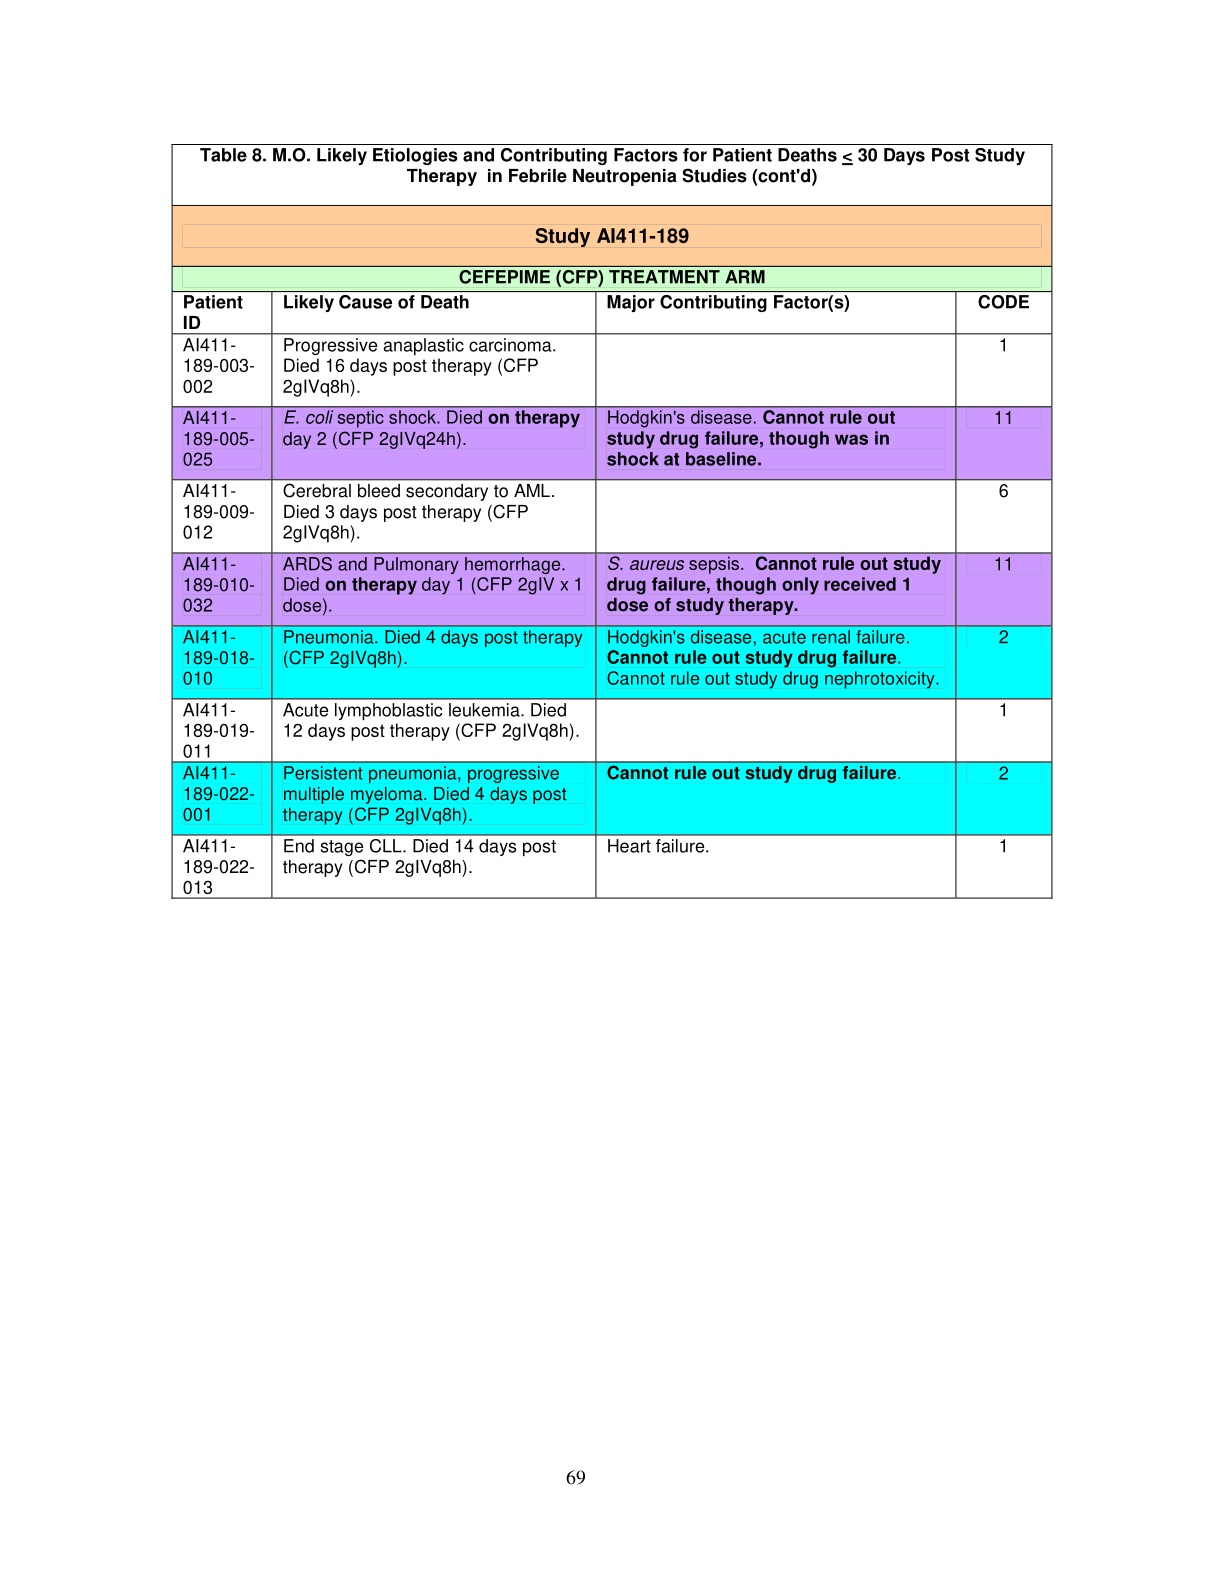merged_cells: (170, 143, 1053, 900)
